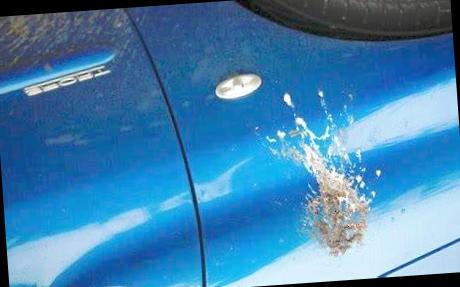Bird Poop: (266, 91, 375, 256)
